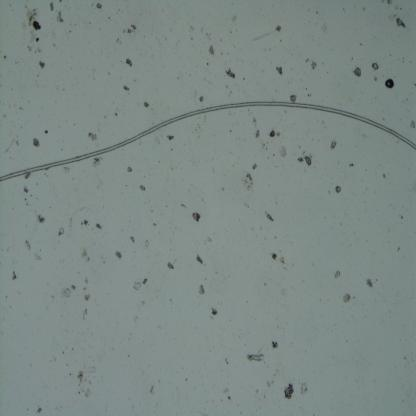Background material: (25, 5, 43, 30), (4, 136, 22, 153), (247, 352, 266, 363), (383, 76, 396, 92), (74, 370, 85, 388), (283, 384, 296, 399), (60, 285, 73, 300), (224, 68, 238, 81), (266, 370, 276, 388), (112, 246, 124, 261), (79, 248, 91, 263), (22, 237, 33, 253), (394, 18, 408, 30), (242, 173, 253, 188), (87, 130, 98, 144), (126, 22, 137, 36), (92, 156, 103, 169), (196, 284, 206, 298), (57, 10, 66, 25), (191, 211, 203, 222), (30, 31, 40, 44), (35, 211, 45, 224), (207, 44, 216, 58), (36, 59, 47, 70), (273, 24, 284, 35), (300, 382, 308, 397), (132, 280, 142, 292), (193, 254, 205, 264), (408, 115, 416, 129), (304, 154, 312, 168), (10, 269, 18, 283), (94, 220, 104, 231), (82, 292, 92, 303), (267, 128, 276, 140), (275, 64, 283, 77), (308, 61, 318, 71), (330, 139, 339, 150), (341, 293, 350, 304), (210, 305, 218, 317), (96, 1, 104, 13), (270, 252, 279, 262), (333, 270, 342, 280), (122, 83, 131, 93), (33, 138, 42, 148), (166, 134, 176, 143), (265, 213, 275, 222), (366, 279, 374, 290), (334, 184, 342, 195), (165, 262, 176, 270), (84, 385, 91, 397), (63, 165, 71, 175), (288, 94, 298, 102), (124, 58, 132, 68), (270, 339, 278, 349), (57, 227, 65, 237), (352, 68, 362, 76), (82, 307, 88, 320), (35, 403, 42, 414), (372, 61, 379, 72), (68, 218, 74, 230), (142, 101, 151, 109), (23, 185, 30, 195), (36, 252, 42, 263), (252, 162, 258, 173), (256, 128, 262, 139), (49, 3, 55, 14), (223, 386, 231, 394), (180, 202, 188, 210), (297, 155, 305, 163), (115, 36, 122, 45), (320, 22, 327, 31), (80, 219, 89, 226), (22, 25, 30, 32), (128, 235, 135, 243), (187, 23, 194, 31), (84, 275, 89, 285), (349, 160, 355, 168), (26, 46, 34, 52), (140, 186, 148, 192), (372, 74, 378, 81), (43, 128, 49, 135), (150, 387, 155, 395), (24, 196, 29, 204), (144, 276, 148, 286), (25, 173, 31, 179), (231, 16, 237, 22), (253, 118, 257, 127), (82, 285, 88, 291), (2, 53, 7, 60), (19, 106, 26, 111), (385, 0, 393, 4), (224, 356, 228, 364), (226, 394, 231, 400), (200, 96, 205, 102), (304, 57, 309, 63), (128, 166, 132, 173), (358, 40, 362, 46), (392, 13, 396, 19), (382, 174, 386, 180), (122, 28, 126, 34), (127, 352, 131, 358), (306, 94, 312, 98), (184, 377, 188, 382), (315, 9, 318, 15), (114, 112, 118, 116), (206, 61, 209, 65), (413, 82, 416, 86), (77, 391, 81, 394), (62, 350, 64, 355), (72, 285, 74, 290), (191, 37, 194, 40), (108, 16, 110, 20), (36, 182, 38, 186), (243, 76, 245, 80), (71, 349, 74, 351), (69, 373, 71, 376)
Hair: (0, 98, 416, 186)
